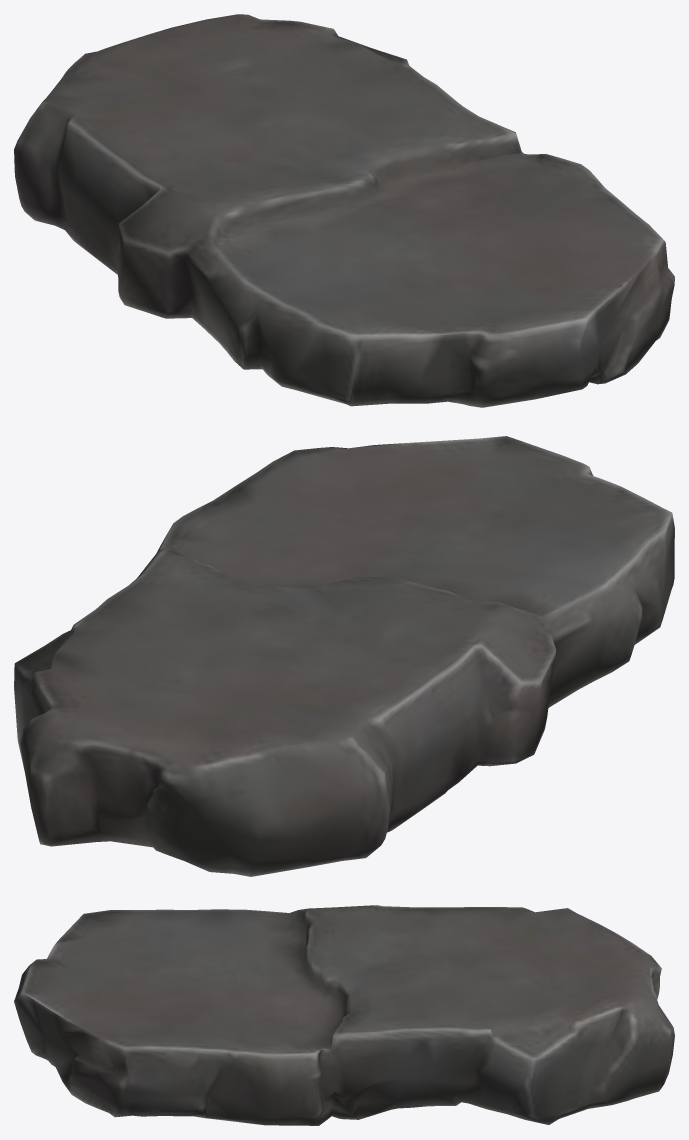
The model's file is SM_Cliff_02.glb.
The picture shows the model from 3 angles, top to bottom: view 1: azimuth 30°, elevation 25°; view 2: azimuth 150°, elevation 25°; view 3: azimuth 270°, elevation 25°; orthographic projection. The views are drawn at different scales.
Parts seen in each view (by area): view 1: SM_Cliff_02; view 2: SM_Cliff_02; view 3: SM_Cliff_02.
Part boxes in pixels (box(x1,y1,x2,y2)): SM_Cliff_02: box(14, 14, 674, 407); SM_Cliff_02: box(14, 436, 674, 876); SM_Cliff_02: box(14, 905, 674, 1125).
Bounding box in the file's own units: 5.7 × 1.67 × 9.97.
1 material, 1 textured.
